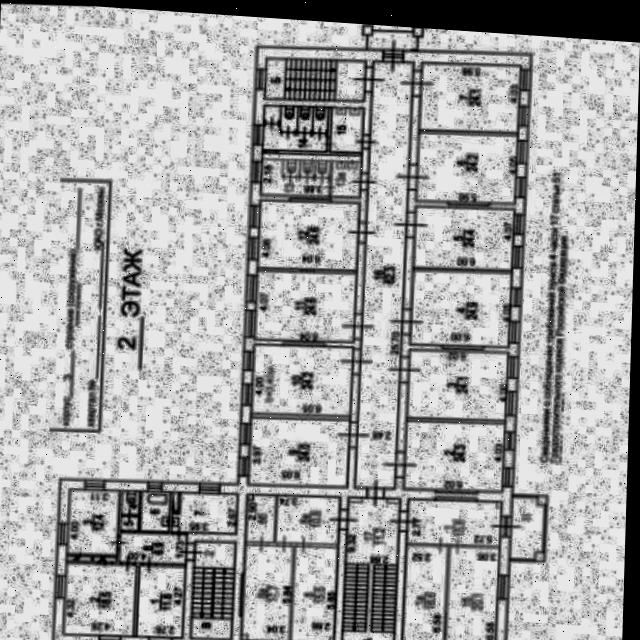room: (355, 60, 413, 486), (341, 496, 400, 640), (410, 270, 510, 345), (255, 268, 355, 340), (251, 343, 353, 413), (419, 62, 519, 132), (416, 132, 516, 202), (404, 420, 504, 490), (249, 415, 348, 485), (408, 349, 507, 419), (258, 199, 357, 267), (414, 205, 514, 269), (65, 558, 137, 632), (242, 542, 293, 638), (447, 546, 499, 640), (407, 497, 502, 545), (263, 56, 364, 100), (191, 539, 236, 637), (403, 543, 448, 640), (293, 544, 337, 640), (138, 562, 185, 634), (69, 485, 119, 552), (278, 494, 338, 542), (260, 156, 330, 194), (173, 489, 237, 530), (510, 497, 545, 559), (121, 529, 187, 560), (262, 122, 326, 149), (331, 105, 362, 150), (247, 492, 276, 540), (142, 488, 170, 527), (331, 160, 359, 195), (366, 30, 416, 49), (280, 104, 297, 129), (312, 105, 327, 130), (124, 487, 139, 510), (298, 105, 311, 130), (264, 104, 279, 120), (283, 159, 298, 173), (123, 513, 138, 527), (300, 160, 314, 174), (316, 160, 329, 174)
